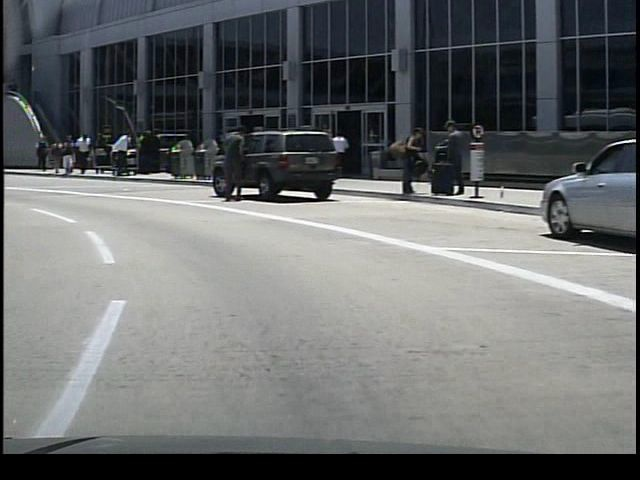person: (419, 114, 464, 196), (216, 115, 245, 206), (387, 120, 419, 199), (105, 125, 131, 179), (327, 125, 350, 185), (70, 129, 91, 179), (55, 132, 74, 180), (31, 135, 49, 175)
